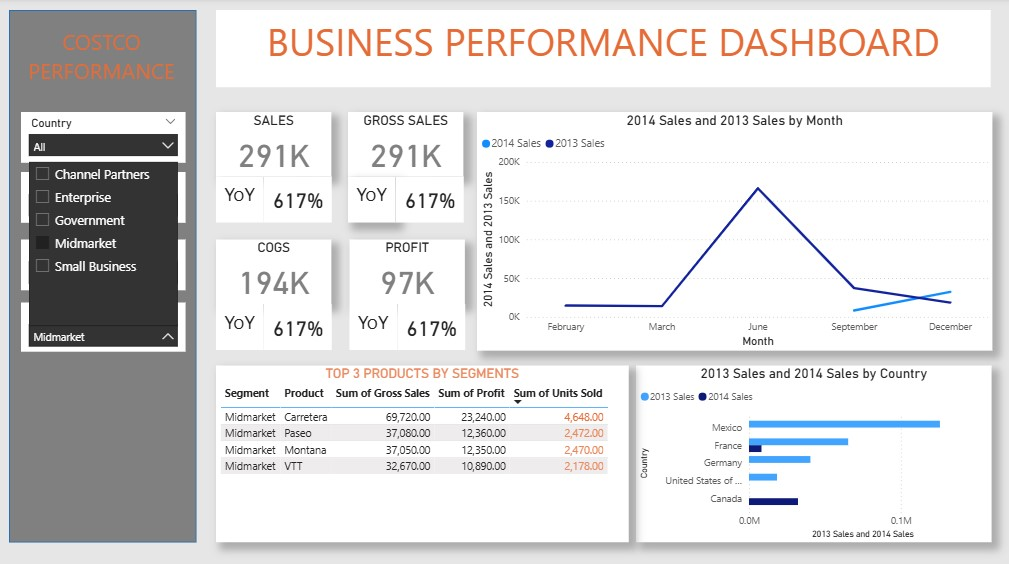

The dashboard page shown, as its layout file describes it:
{"tool":"powerbi","page":{"name":"Page 1","canvas":[1280,720],"ordinal":0},"visuals":[{"type":"shape","box":[15.1,15.1,236.2,670.9],"z":0},{"type":"textbox","box":[276.9,15.9,975.9,97.6],"z":1000},{"type":"card","title":"SALES","fields":{"Values":["Sum(financials. Sales)"]},"box":[276.9,143.4,145.4,81.7],"z":2000},{"type":"card","title":"PROFIT","fields":{"Values":["Sum(financials.Profit)"]},"box":[444.2,304.7,145.4,81.7],"z":3000},{"type":"card","title":"COGS","fields":{"Values":["Sum(financials.COGS)"]},"box":[276.9,304.7,145.4,81.7],"z":4000},{"type":"card","title":"GROSS SALES","fields":{"Values":["Sum(financials.Gross Sales)"]},"box":[442.2,143.4,145.4,81.7],"z":5000},{"type":"card","title":"SALES","fields":{"Values":["financials. Sales YoY%"]},"box":[336.6,225.1,85.6,57.8],"z":6000},{"type":"textbox","box":[276.9,225.1,59.8,57.8],"z":7000},{"type":"textbox","box":[276.9,386.4,59.8,57.8],"z":8000},{"type":"textbox","box":[444.2,386.4,59.8,57.8],"z":9000},{"type":"textbox","box":[442.2,225.1,59.8,57.8],"z":10000},{"type":"card","title":"SALES","fields":{"Values":["financials.COGS YoY%"]},"box":[336.6,386.4,85.6,57.8],"z":11000},{"type":"card","title":"SALES","fields":{"Values":["financials.Profit YoY%"]},"box":[503.9,386.4,85.6,57.8],"z":12000},{"type":"card","title":"SALES","fields":{"Values":["financials.Gross Sales YoY%"]},"box":[501.9,225.1,85.6,57.8],"z":13000},{"type":"lineChart","fields":{"Category":["financials.Date.Variation.Date Hierarchy.Month"],"Y":["financials.2014 Sales","financials.2013 Sales"]},"box":[605.5,143.4,649.3,300.8],"z":14000},{"type":"clusteredBarChart","fields":{"Category":["financials.Country"],"Y":["financials.2013 Sales","financials.2014 Sales"]},"box":[805,463,447.9,223],"z":15000},{"type":"tableEx","title":"TOP 3 PRODUCTS BY SEGMENTS","fields":{"Values":["financials.Segment","financials.Product","Sum(financials.Gross Sales)","Sum(financials.Profit)","Sum(financials.Units Sold)"]},"box":[275.9,463,519.7,223],"z":16000},{"type":"slicer","fields":{"Values":["financials.Country"]},"box":[29.9,143.4,207.1,63.7],"z":17000},{"type":"slicer","fields":{"Values":["financials.Discount Band"]},"box":[29.9,219.1,207.1,63.7],"z":18000},{"type":"slicer","fields":{"Values":["financials.Segment"]},"box":[29.9,384.4,207.1,61.7],"z":19000},{"type":"slicer","fields":{"Values":["financials.Product"]},"box":[29.9,304.7,207.1,63.7],"z":20000},{"type":"textbox","box":[13.9,31.9,237,97.6],"z":21000}]}

Visuals, with their boxes in screenshot pixels (x1, y1, x2, y2), scaled from the page's 1280x720 canvas onto the 1009x564 screenshot:
shape: [x1=12, y1=12, x2=198, y2=537]
textbox: [x1=218, y1=12, x2=988, y2=89]
"SALES" card: [x1=218, y1=112, x2=333, y2=176]
"PROFIT" card: [x1=350, y1=239, x2=465, y2=303]
"COGS" card: [x1=218, y1=239, x2=333, y2=303]
"GROSS SALES" card: [x1=349, y1=112, x2=463, y2=176]
"SALES" card: [x1=265, y1=176, x2=333, y2=222]
textbox: [x1=218, y1=176, x2=265, y2=222]
textbox: [x1=218, y1=303, x2=265, y2=348]
textbox: [x1=350, y1=303, x2=397, y2=348]
textbox: [x1=349, y1=176, x2=396, y2=222]
"SALES" card: [x1=265, y1=303, x2=333, y2=348]
"SALES" card: [x1=397, y1=303, x2=465, y2=348]
"SALES" card: [x1=396, y1=176, x2=463, y2=222]
lineChart - financials.Date.Variation.Date Hierarchy.Month x financials.2014 Sales: [x1=477, y1=112, x2=989, y2=348]
clusteredBarChart - financials.Country x financials.2013 Sales: [x1=635, y1=363, x2=988, y2=537]
"TOP 3 PRODUCTS BY SEGMENTS" tableEx: [x1=217, y1=363, x2=627, y2=537]
slicer - financials.Country: [x1=24, y1=112, x2=187, y2=162]
slicer - financials.Discount Band: [x1=24, y1=172, x2=187, y2=222]
slicer - financials.Segment: [x1=24, y1=301, x2=187, y2=349]
slicer - financials.Product: [x1=24, y1=239, x2=187, y2=289]
textbox: [x1=11, y1=25, x2=198, y2=101]
